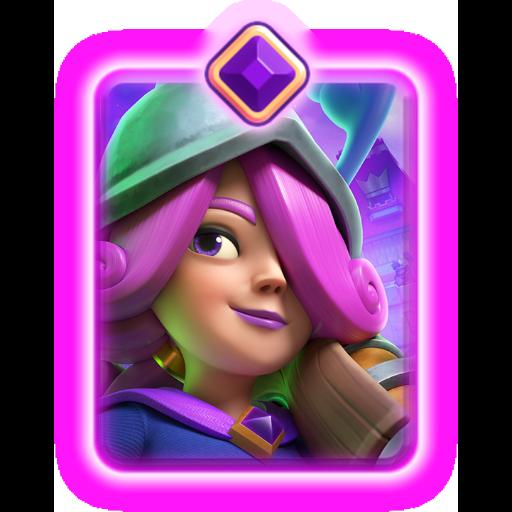musketeer-evo: (102, 80, 410, 460)
